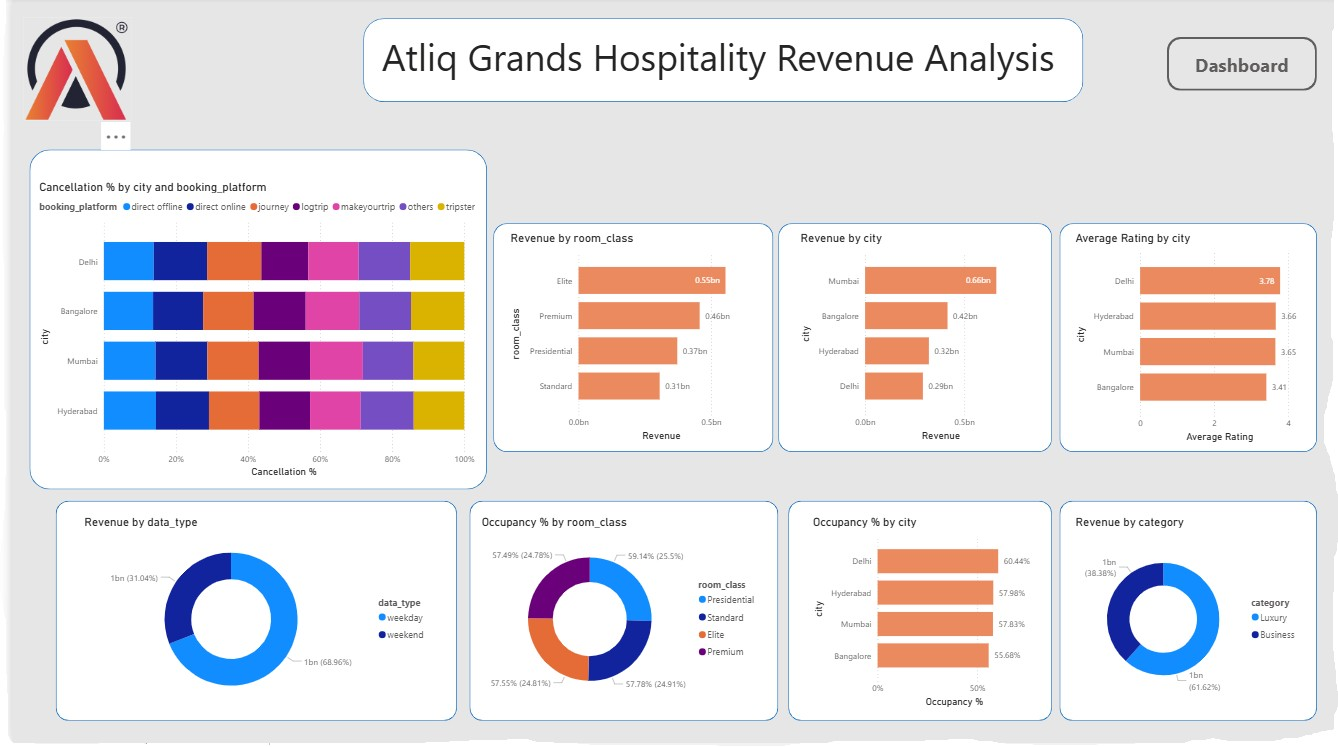

Layout of this report page (visuals, bound fields, positions):
{"tool":"powerbi","page":{"name":"Home","canvas":[1920,1080],"ordinal":2},"visuals":[{"type":"shape","box":[1516.5,729.3,372.8,318.5],"z":0},{"type":"shape","box":[662.3,729.3,447,318.5],"z":1000},{"type":"shape","box":[63.3,729.3,580.9,318.5],"z":2000},{"type":"shape","box":[1123.8,729.3,381.8,318.5],"z":3000},{"type":"shape","box":[1516.5,327.5,372.8,331.2],"z":4000},{"type":"shape","box":[1109.3,327.5,396.3,331.2],"z":5000},{"type":"shape","box":[696.7,327.5,405.4,331.2],"z":6000},{"type":"shape","box":[25.3,220.8,662.3,492.2],"z":7000},{"type":"shape","box":[508.5,30.8,1042.4,121.2],"z":8000},{"type":"image","box":[16.3,29,157.4,150.2],"z":9000},{"type":"textbox","box":[528.4,45.2,988.1,90.5],"z":10000},{"type":"hundredPercentStackedBarChart","fields":{"Category":["dim_hotels.city"],"Series":["fact_bookings.booking_platform"],"Y":["Key_Measures.Cancellation %"]},"box":[34.4,264.2,640.6,436.1],"z":11000},{"type":"barChart","fields":{"Y":["Key_Measures.Revenue"],"Category":["dim_rooms.room_class"]},"box":[716.6,338.4,363.7,309.5],"z":12000},{"type":"barChart","fields":{"Y":["Key_Measures.Revenue"],"Category":["dim_hotels.city"]},"box":[1136.5,338.4,338.4,309.5],"z":13000},{"type":"barChart","fields":{"Y":["Key_Measures.Average Rating"],"Category":["dim_hotels.city"]},"box":[1534.6,338.4,338.4,311.3],"z":14000},{"type":"barChart","fields":{"Y":["Key_Measures.Occupancy %"],"Category":["dim_hotels.city"]},"box":[1154.6,749.2,338.4,284.1],"z":15000},{"type":"donutChart","fields":{"Y":["Key_Measures.Revenue"],"Category":["dim_date.data_type"]},"box":[99.5,749.2,515.8,284.1],"z":16000},{"type":"donutChart","fields":{"Y":["Key_Measures.Occupancy %"],"Category":["dim_rooms.room_class"]},"box":[675,749.2,414.4,284.1],"z":17000},{"type":"donutChart","fields":{"Y":["Key_Measures.Revenue"],"Category":["dim_hotels.category"]},"box":[1534.6,749.2,338.4,284.1],"z":18000},{"type":"actionButton","box":[1672.1,57.9,217.2,77.8],"z":19000}]}

Visuals, with their boxes in screenshot pixels (x1, y1, x2, y2), scaled from the page's 1920x1080 canvas onto the 1338x747 screenshot:
shape: locate(1057, 504, 1317, 725)
shape: locate(462, 504, 773, 725)
shape: locate(44, 504, 449, 725)
shape: locate(783, 504, 1049, 725)
shape: locate(1057, 227, 1317, 456)
shape: locate(773, 227, 1049, 456)
shape: locate(486, 227, 768, 456)
shape: locate(18, 153, 479, 493)
shape: locate(354, 21, 1081, 105)
image: locate(11, 20, 121, 124)
textbox: locate(368, 31, 1057, 94)
hundredPercentStackedBarChart - dim_hotels.city x fact_bookings.booking_platform: locate(24, 183, 470, 484)
barChart - Key_Measures.Revenue x dim_rooms.room_class: locate(499, 234, 753, 448)
barChart - Key_Measures.Revenue x dim_hotels.city: locate(792, 234, 1028, 448)
barChart - Key_Measures.Average Rating x dim_hotels.city: locate(1069, 234, 1305, 449)
barChart - Key_Measures.Occupancy % x dim_hotels.city: locate(805, 518, 1040, 715)
donutChart - Key_Measures.Revenue x dim_date.data_type: locate(69, 518, 429, 715)
donutChart - Key_Measures.Occupancy % x dim_rooms.room_class: locate(470, 518, 759, 715)
donutChart - Key_Measures.Revenue x dim_hotels.category: locate(1069, 518, 1305, 715)
actionButton: locate(1165, 40, 1317, 94)
